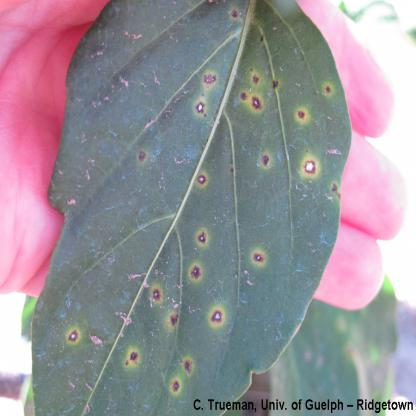Bell_pepper leaf spot: (36, 9, 351, 399)
